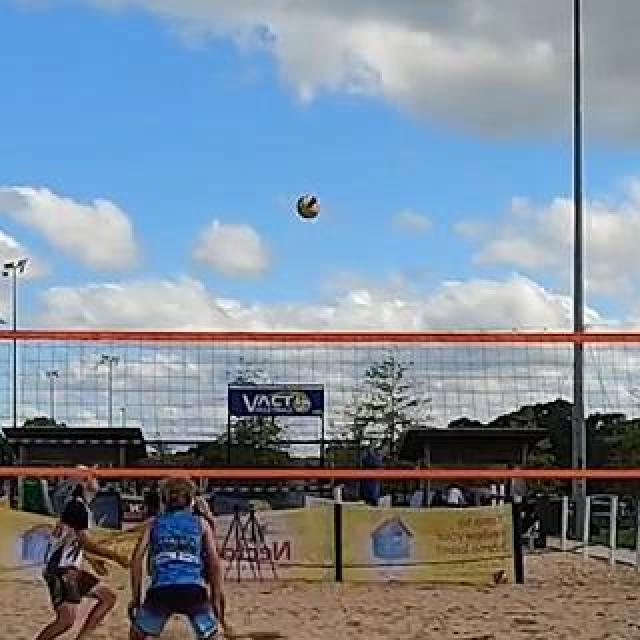volleyball: (298, 195, 320, 217), (494, 569, 508, 585)
